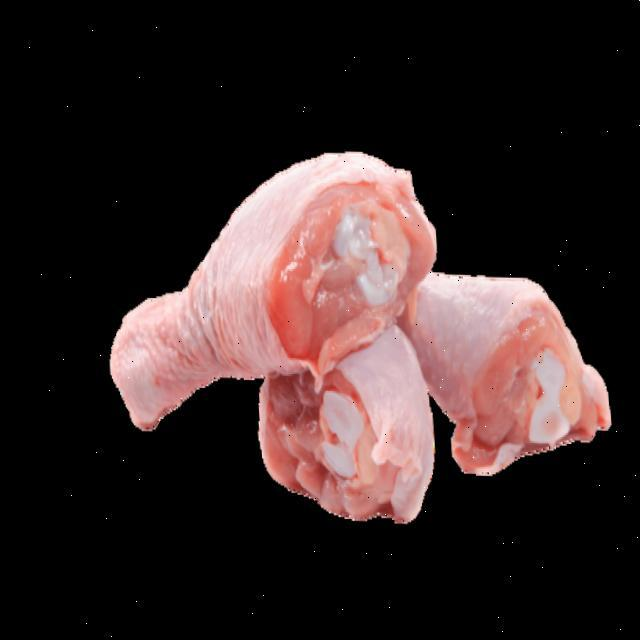leg: (93, 143, 429, 416), (400, 268, 613, 467), (236, 326, 439, 518)
